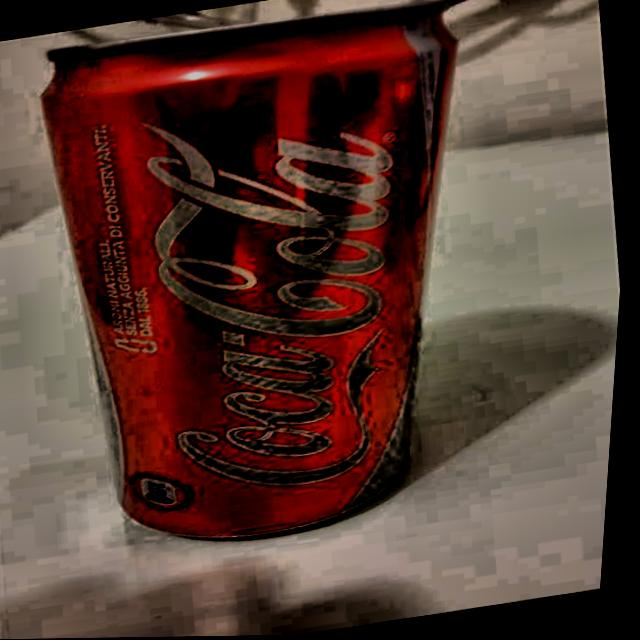Cans: (0, 0, 543, 582)
